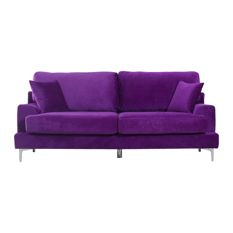chairs: (14, 68, 220, 166)
